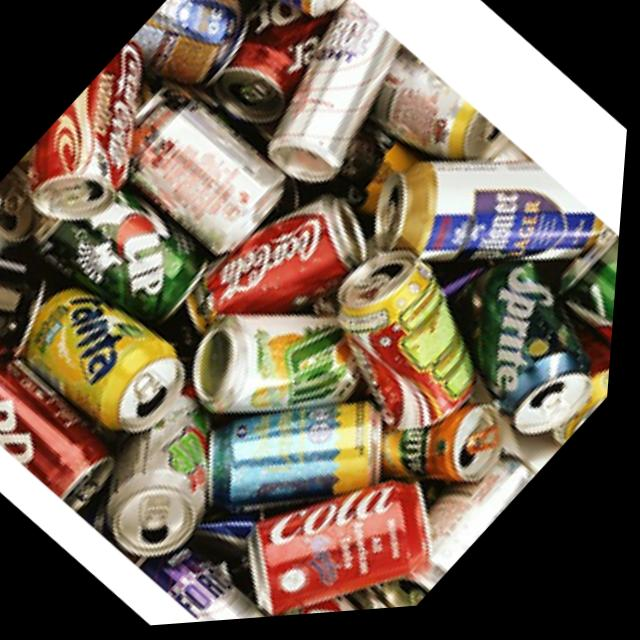aluminum_soda_cans: (299, 235, 521, 454), (8, 253, 219, 459), (243, 3, 437, 202)
